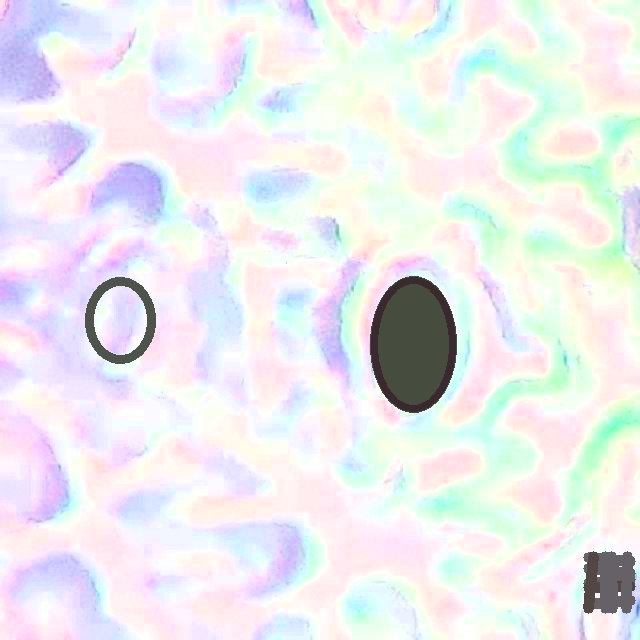close: (370, 275, 456, 413)
open: (85, 276, 155, 363), (584, 551, 634, 612)
